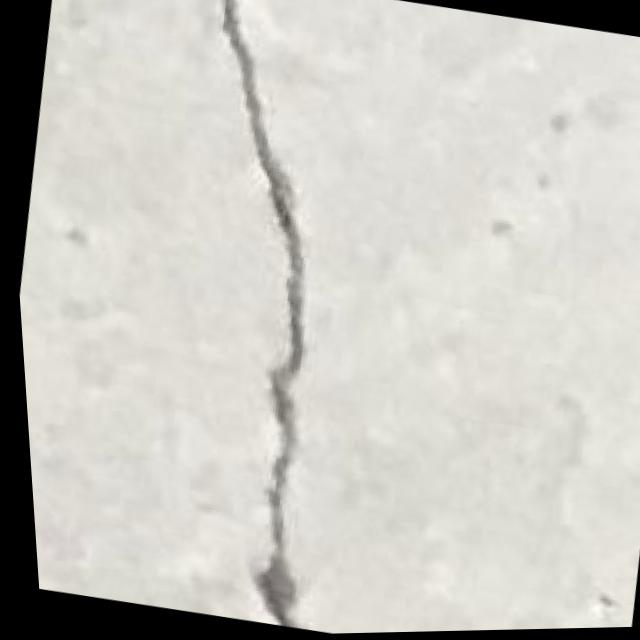Crack: (97, 0, 401, 631)
